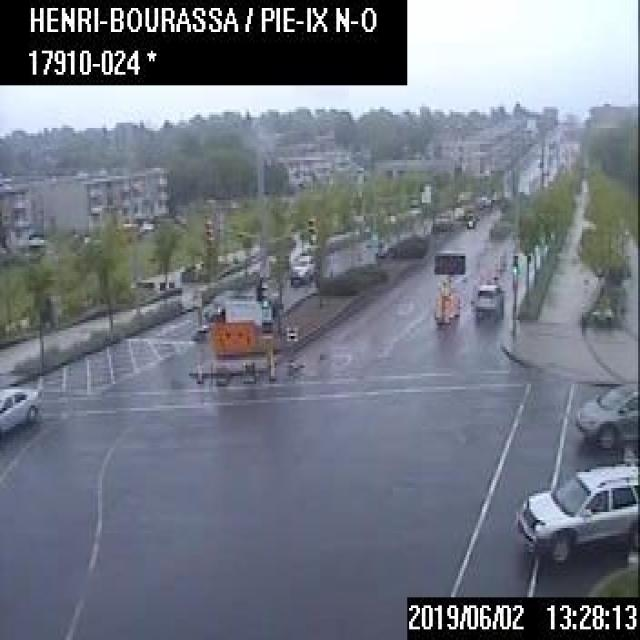construction: (193, 293, 276, 384), (432, 251, 464, 320)
vehicle: (511, 461, 638, 563), (571, 379, 638, 445), (0, 382, 40, 438), (194, 296, 222, 339), (473, 283, 502, 320), (287, 251, 315, 285)
